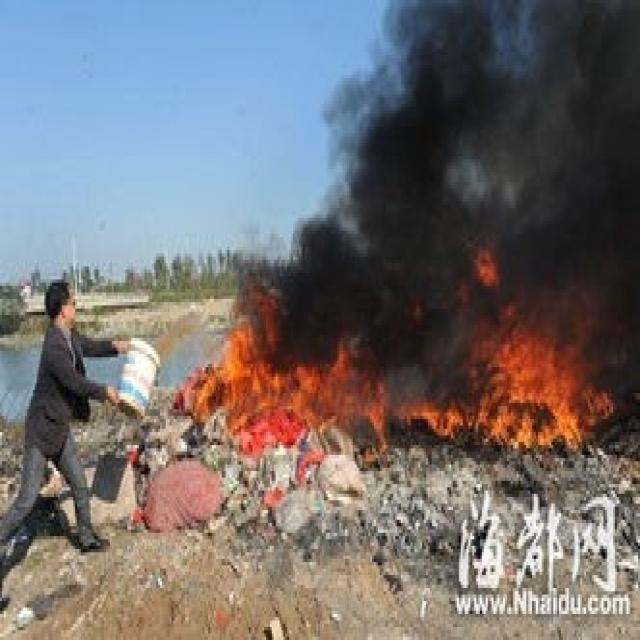Smoke: (227, 0, 638, 461)
